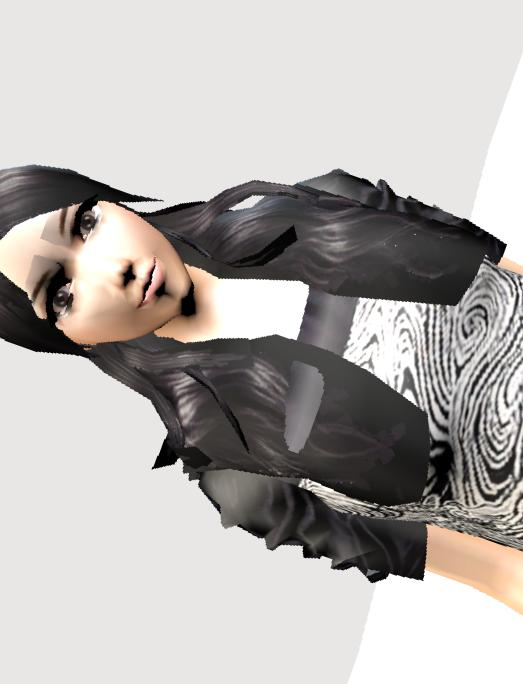clip: (282, 356, 334, 415)
